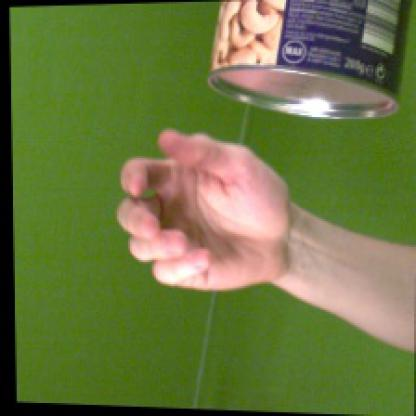Hand: (117, 128, 294, 291)
